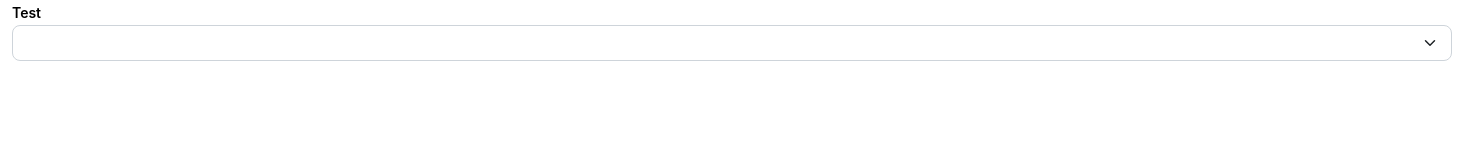
Test: ListenSelect chevron › opens and closes the list on repeated presses
Step 1. Click the button named "Liste öffnen" → (1430, 43), box x1=1409 y1=22 x2=1451 y2=64
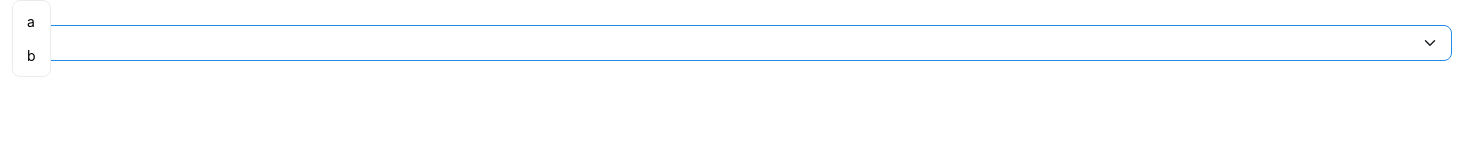
Now the dropdown labelled "Test" is expanded, box x1=12 y1=25 x2=1452 y2=61
Step 2. Click the button named "Liste schließen" → (1430, 43), box x1=1409 y1=22 x2=1451 y2=64
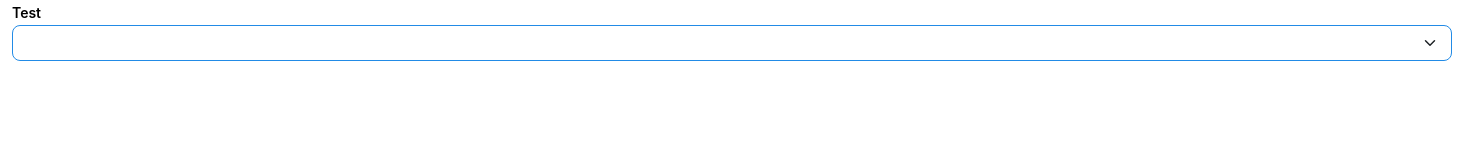
Now the dropdown labelled "Test" is collapsed, box x1=12 y1=25 x2=1452 y2=61
